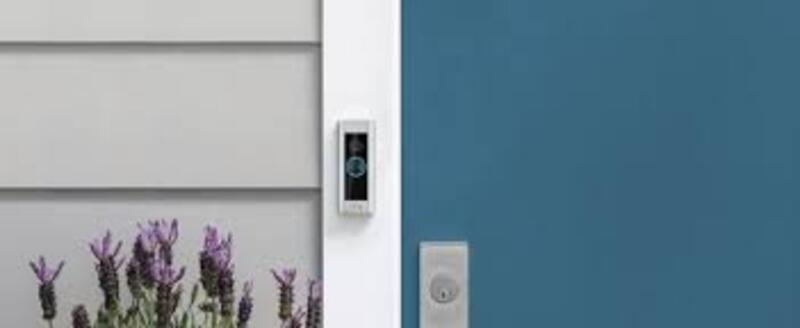doorbell: (329, 116, 379, 222)
